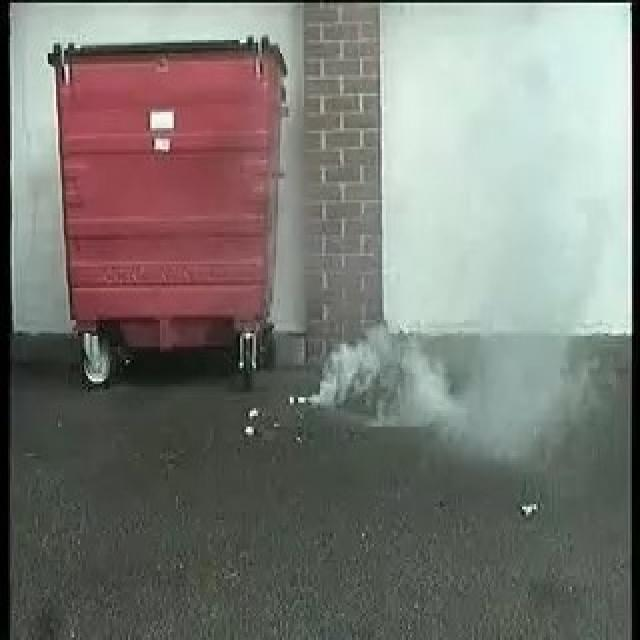smoke: (312, 315, 546, 437)
